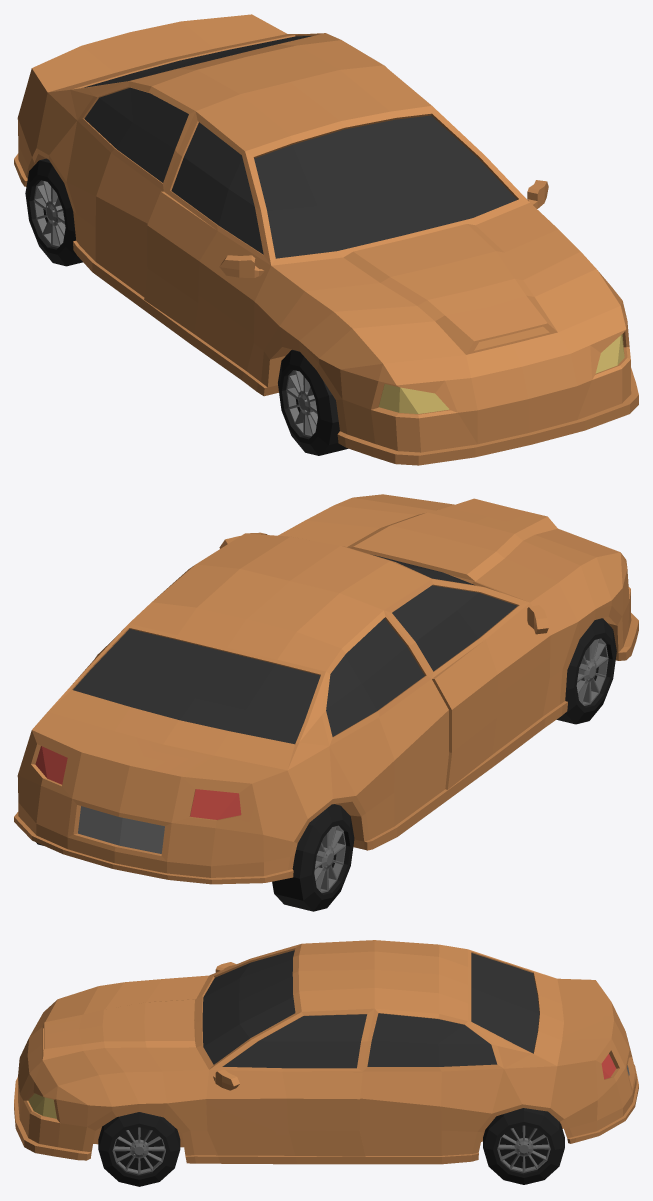
Rendered from car-sports.glb.
3 renders of one model, top to bottom at view 1: azimuth 30°, elevation 25°; view 2: azimuth 150°, elevation 25°; view 3: azimuth 270°, elevation 25°, orthographic. The views are drawn at different scales.
Visible parts, largest first — view 1: Orange, Windows, DarkOrange, Black, Grey, Headlights; view 2: Orange, Windows, Black, Grey, DarkOrange, TailLights; view 3: Orange, Windows, Black, DarkOrange, Grey, Headlights.
Part boxes in pixels (x1,y1,x2,y2): Orange: (17,14,631,452); Windows: (84,36,516,258); DarkOrange: (14,153,638,465); Black: (25,158,348,455); Grey: (33,180,317,437); Headlights: (378,334,624,413); Orange: (17,494,631,877); Windows: (73,555,517,744); Black: (36,618,616,911); Grey: (78,638,608,892); DarkOrange: (14,613,638,884); TailLights: (35,746,241,819); Orange: (18,940,636,1156); Windows: (202,950,539,1068); Black: (98,1108,564,1186); DarkOrange: (14,1064,638,1164); Grey: (112,1065,629,1174); Headlights: (28,1093,56,1118).
Bounding box in the file's own units: 1.8 × 1.16 × 3.97.
